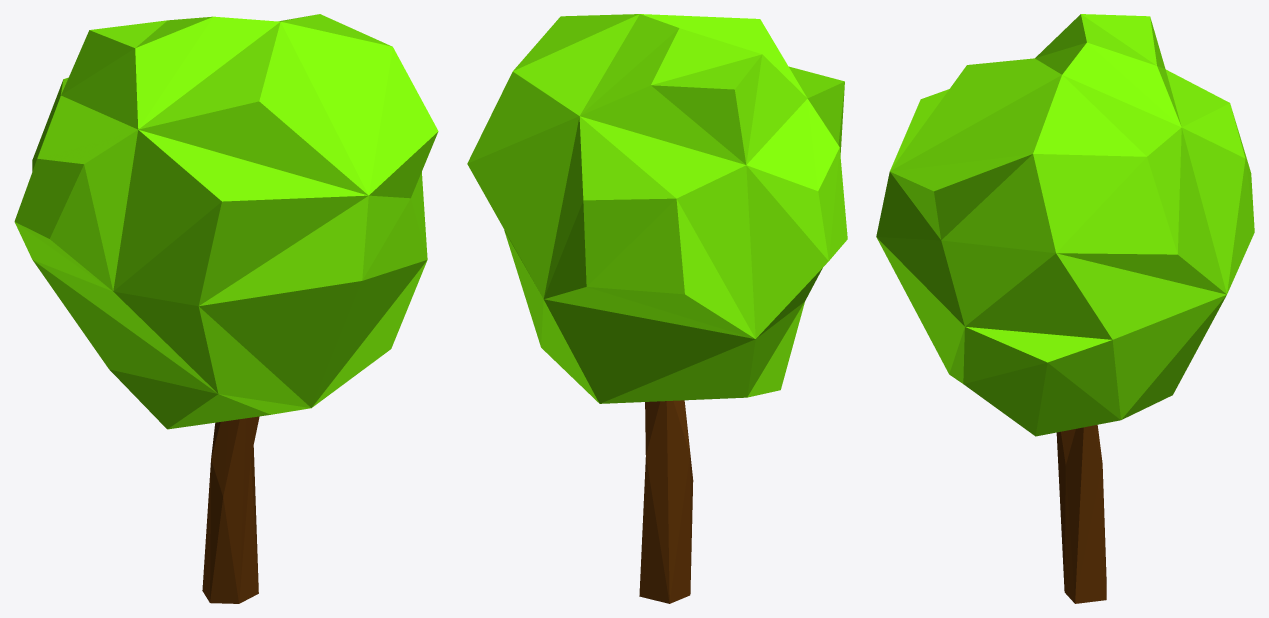
File: CartoonTree.dae
3 renders of one model, left to right at view 1: azimuth 30°, elevation 25°; view 2: azimuth 150°, elevation 25°; view 3: azimuth 270°, elevation 25°, orthographic. The views are drawn at different scales.
Parts seen in each view (by area): view 1: crown, trunk; view 2: crown, trunk; view 3: crown, trunk.
Boxes of the visible parts, x1,y1,x2,y2 form: crown: (14, 14, 438, 429); trunk: (202, 416, 259, 603); crown: (467, 14, 847, 403); trunk: (639, 400, 693, 603); crown: (876, 14, 1254, 436); trunk: (1056, 425, 1106, 603).
Bounding box in the file's own units: 137 × 132 × 209.
